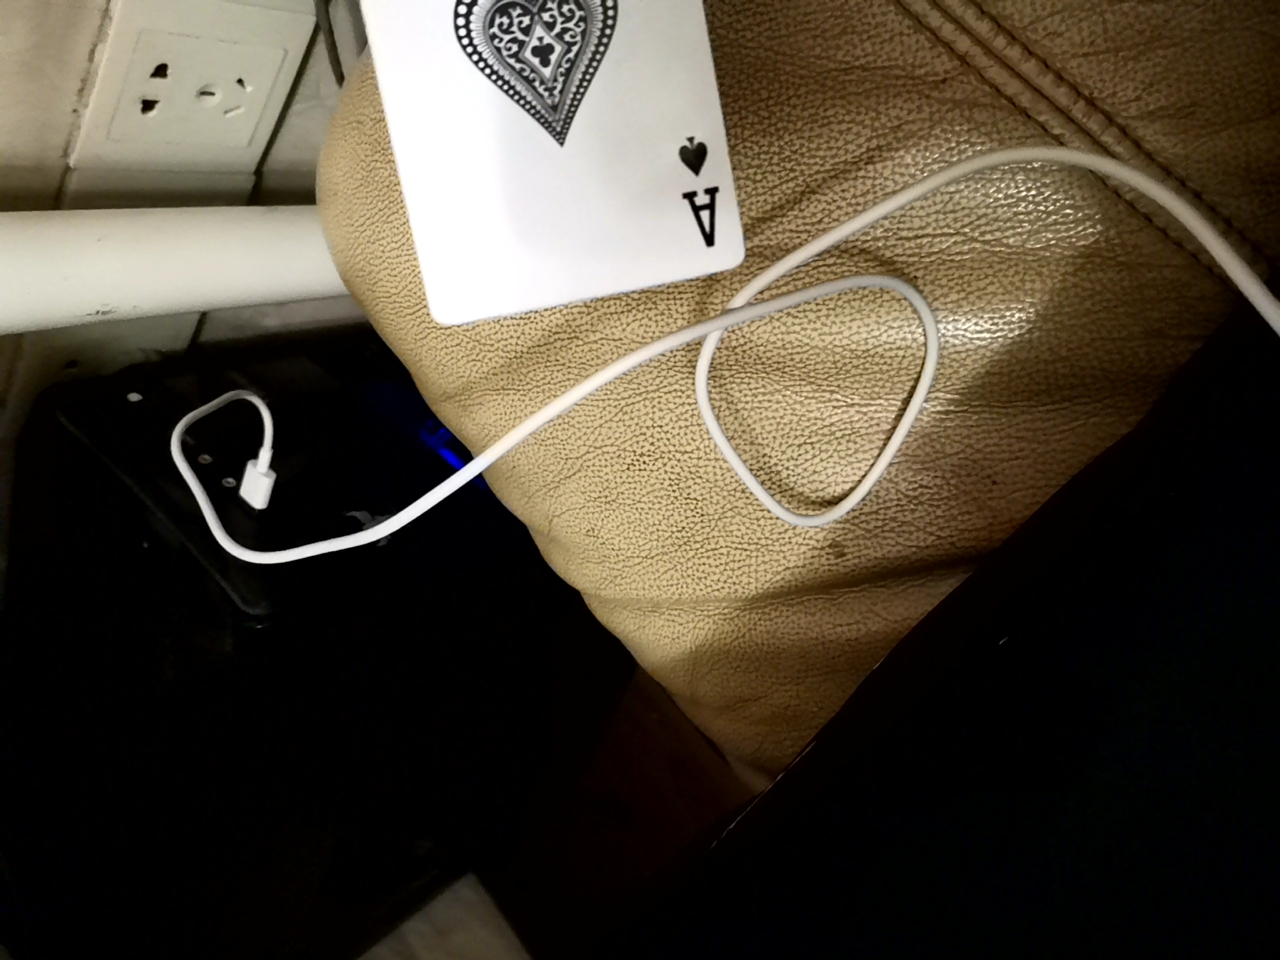ht a: (279, 5, 755, 325)
